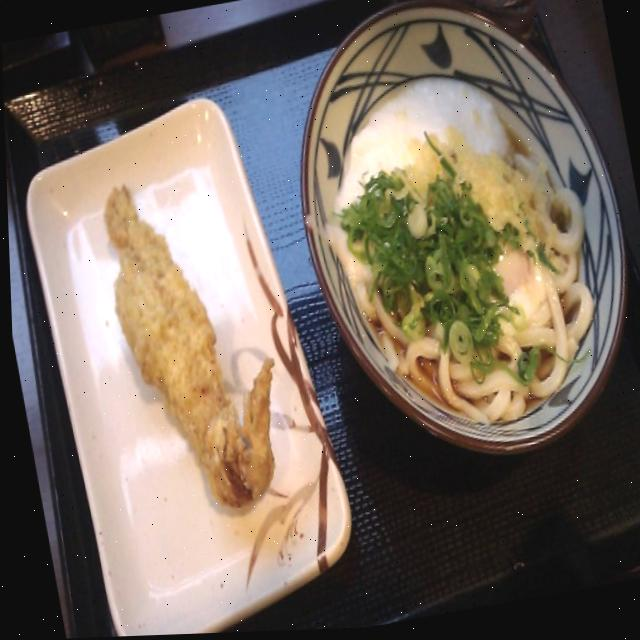面条主食: (262, 0, 640, 486)
